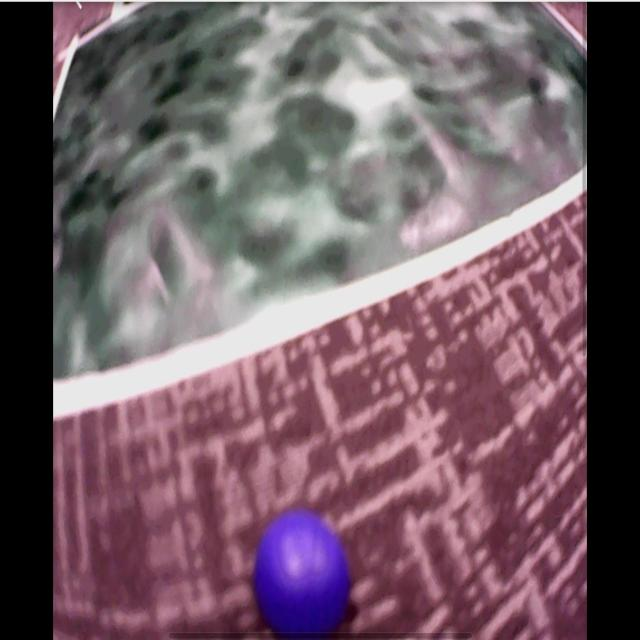ball: (256, 514, 349, 636)
